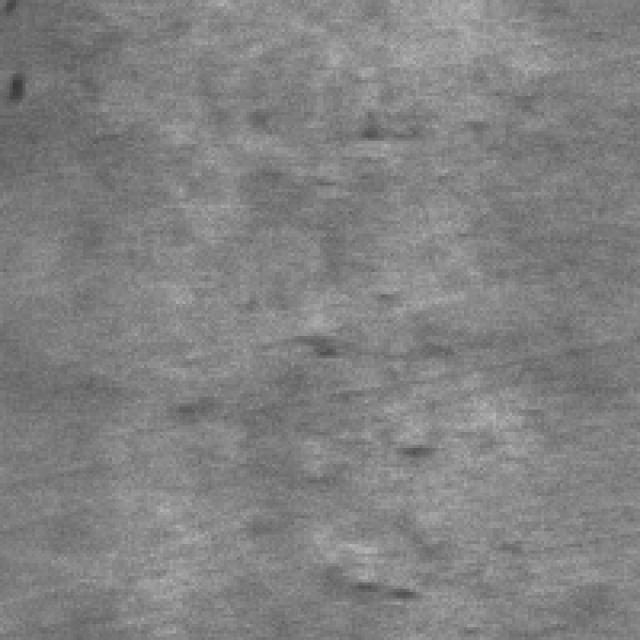rolled-in_scale: (256, 406, 480, 608)
